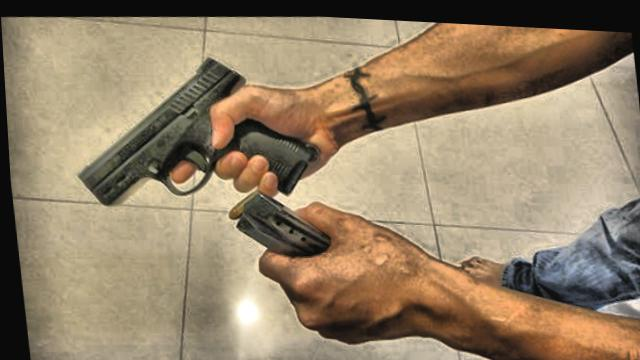pistol: (64, 41, 322, 215)
